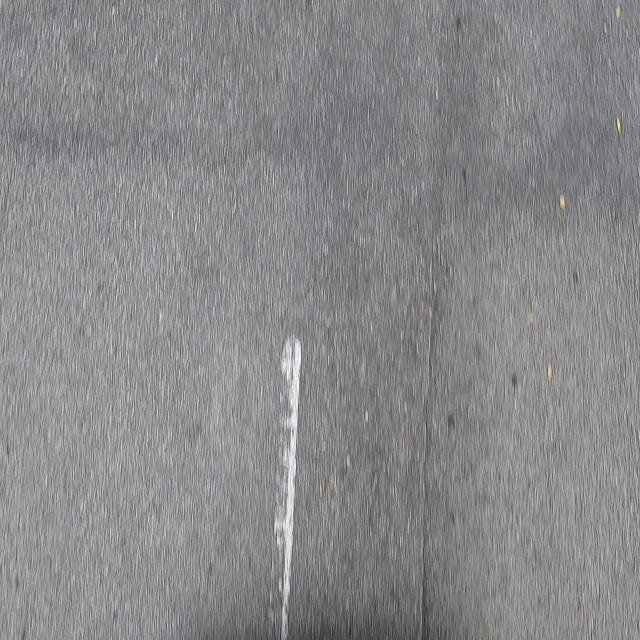Retak-Memanjang: (419, 273, 439, 640)
